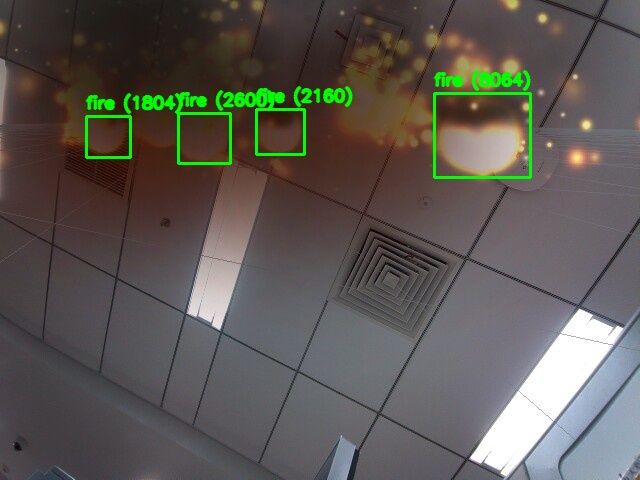fire: (434, 93, 530, 177), (178, 113, 230, 163), (256, 109, 304, 154), (86, 116, 130, 157)
